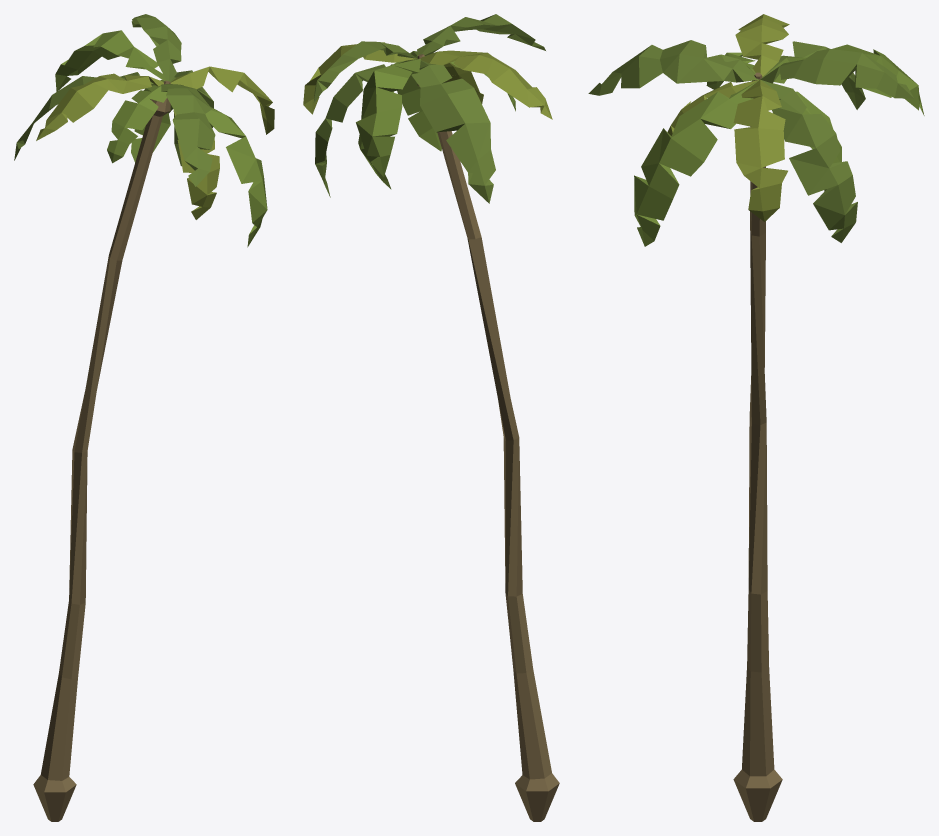
The model's file is Palm_5.fbx.
3 views of the same model, side by side, from view 1: azimuth 30°, elevation 25°; view 2: azimuth 150°, elevation 25°; view 3: azimuth 270°, elevation 25° (orthographic). The views are drawn at different scales.
Visible parts, largest first — view 1: Palm_5; view 2: Palm_5; view 3: Palm_5.
Part boxes in pixels (x1,y1,x2,y2): Palm_5: (14, 14, 274, 821); Palm_5: (303, 14, 559, 821); Palm_5: (588, 14, 924, 821).
Size of the model in its own units: 315 by 946 by 344.
